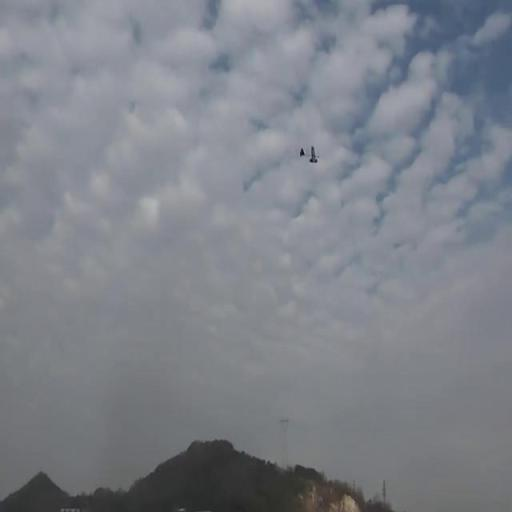uav: (299, 146, 319, 162)
